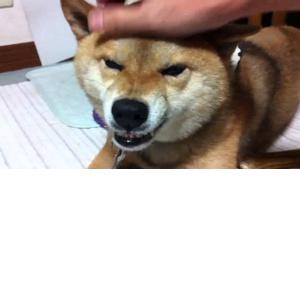dog: (17, 0, 266, 153)
